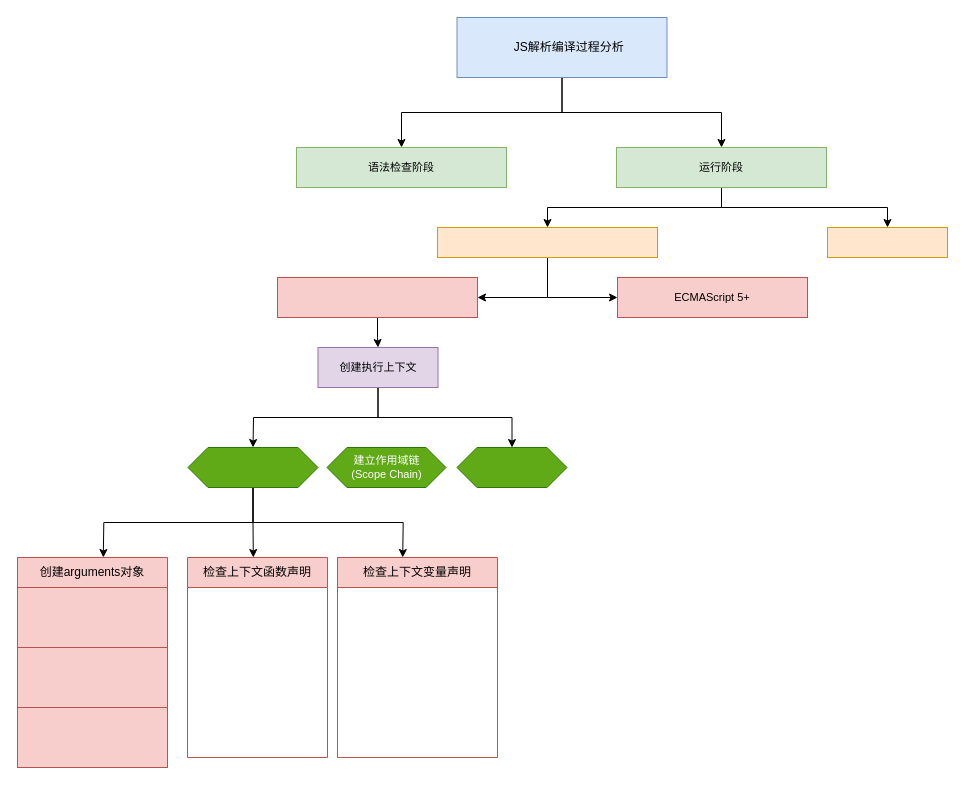
Some shapes in this 965 by 785 pixel diagram are drawn without their labels. The shapes that lost their labels are listed below. From the top down, each one's centre as x and y in pixels, then its label:
(x=547, y=242): 预编译阶段(本篇主角)
(x=887, y=242): 执行阶段
(x=377, y=297): ECMAScript 3
(x=252, y=467): 创建VO (Variable Object)
(x=511, y=467): 确定this指向
